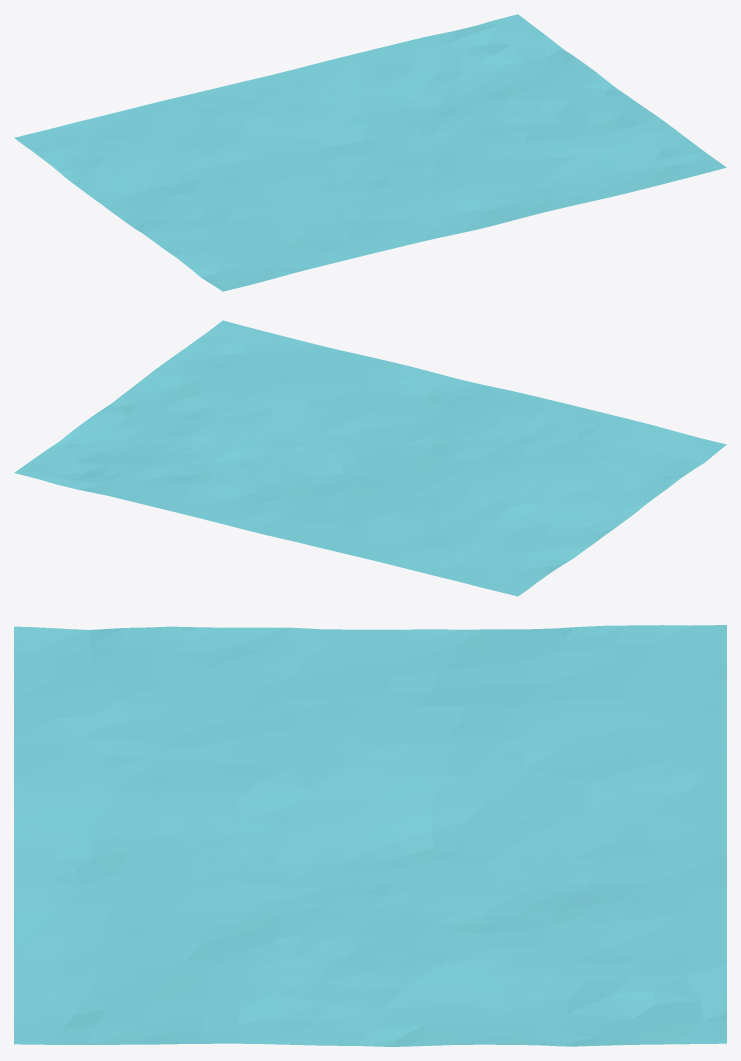
The model's file is water_001.glb.
3 views of the same model, one above another, from view 1: azimuth 30°, elevation 25°; view 2: azimuth 150°, elevation 25°; view 3: azimuth 270°, elevation 25° (orthographic). The views are drawn at different scales.
Parts seen in each view (by area): view 1: water_001; view 2: water_001; view 3: water_001.
Boxes of the visible parts, x1,y1,x2,y2 form: water_001: [14, 14, 726, 291]; water_001: [14, 320, 726, 596]; water_001: [14, 625, 726, 1046].
Size of the model in its own units: 44.19 by 0.3384 by 31.73.
Materials: 1 (1 with a texture image).
